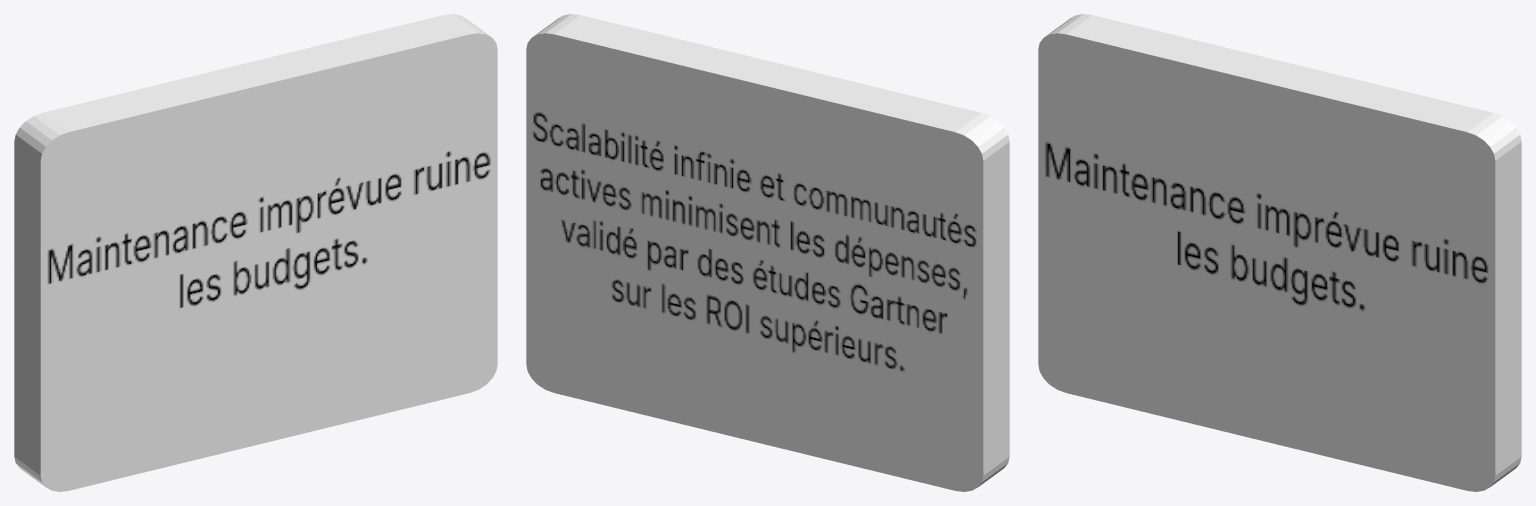
The picture shows the model from 3 angles, left to right: view 1: azimuth 30°, elevation 25°; view 2: azimuth 150°, elevation 25°; view 3: azimuth 330°, elevation 25°; orthographic projection.
Parts seen in each view (by area): view 1: Q5; view 2: Q5; view 3: Q5.
Part boxes in pixels (<box>): Q5: <box>14,14,497,491</box>; Q5: <box>526,14,1009,491</box>; Q5: <box>1038,14,1521,491</box>.
Size of the model in its own units: 4 by 3 by 0.4.
Materials: 1 (1 with a texture image).
